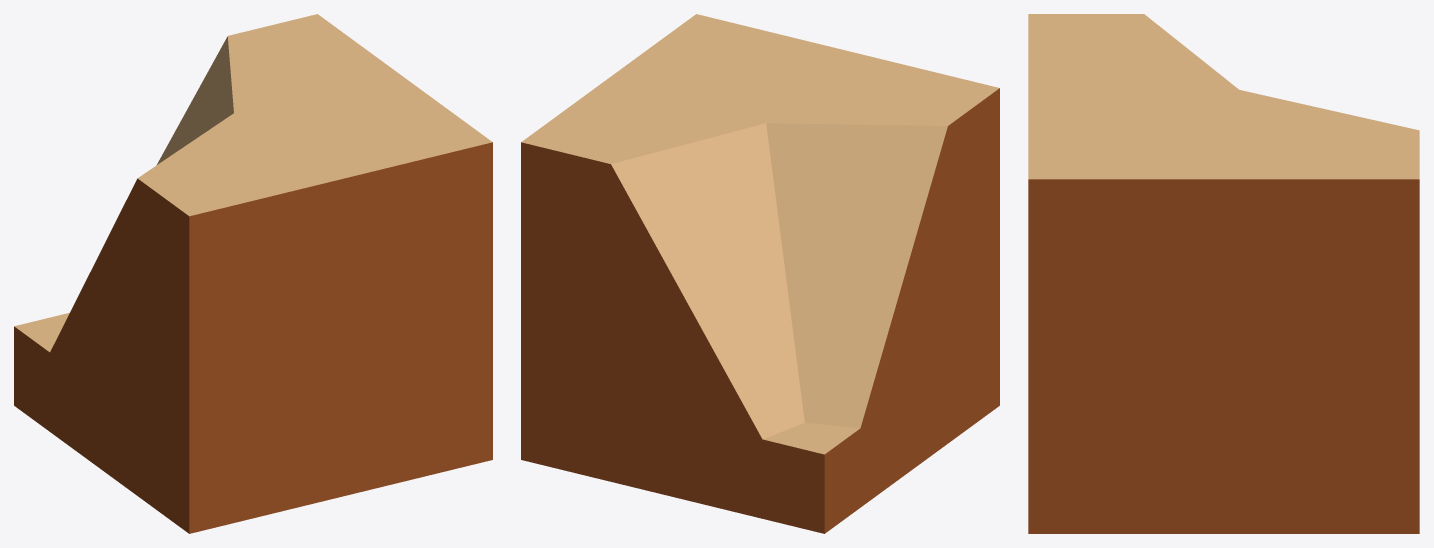
File: cornerInt_wall_sand.fbx
3 renders of one model, left to right at view 1: azimuth 30°, elevation 25°; view 2: azimuth 150°, elevation 25°; view 3: azimuth 270°, elevation 25°, orthographic. The views are drawn at different scales.
Parts seen in each view (by area): view 1: cornerInt_wall_sand; view 2: cornerInt_wall_sand; view 3: cornerInt_wall_sand.
Part boxes in pixels (x1,y1,x2,y2): cornerInt_wall_sand: (14, 14, 492, 533); cornerInt_wall_sand: (521, 14, 999, 533); cornerInt_wall_sand: (1028, 14, 1419, 533).
Size of the model in its own units: 200 by 200 by 200.
